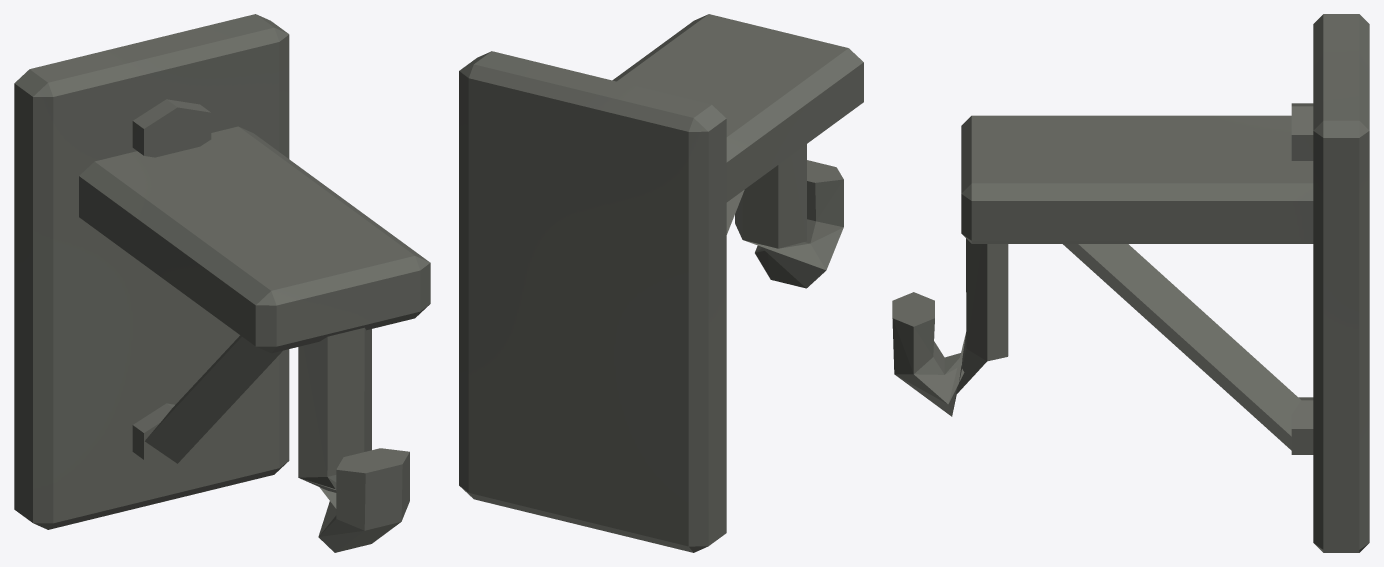
Rendered from WarrensC_CCS62_WallLanternHook_Mars_SM.fbx.
3 views of the same model, side by side, from view 1: azimuth 30°, elevation 25°; view 2: azimuth 150°, elevation 25°; view 3: azimuth 270°, elevation 25° (orthographic). The views are drawn at different scales.
Visible parts, largest first — view 1: WarrensC_CCS62_WallLanternHook_Mars_SM.001; view 2: WarrensC_CCS62_WallLanternHook_Mars_SM.001; view 3: WarrensC_CCS62_WallLanternHook_Mars_SM.001.
Boxes of the visible parts, bbox=[...] form: WarrensC_CCS62_WallLanternHook_Mars_SM.001: bbox=[14, 14, 430, 552]; WarrensC_CCS62_WallLanternHook_Mars_SM.001: bbox=[459, 14, 863, 552]; WarrensC_CCS62_WallLanternHook_Mars_SM.001: bbox=[892, 14, 1369, 552].
Bounding box in the file's own units: 15 × 25 × 25.
